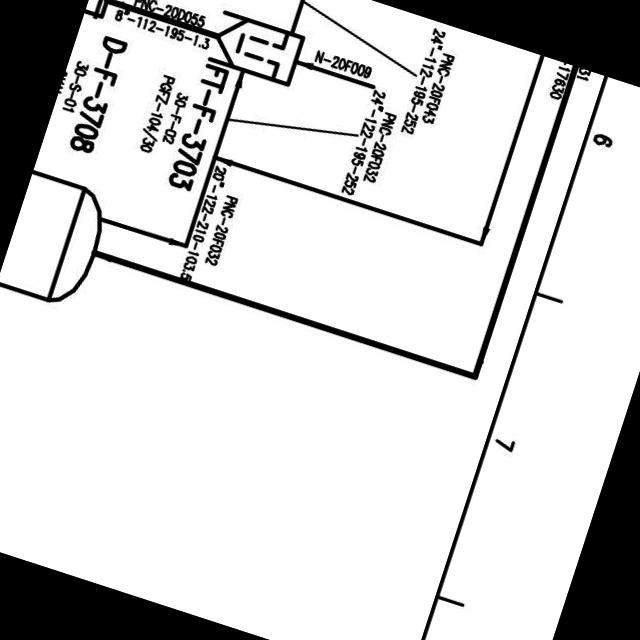FT2: (197, 0, 313, 102)
